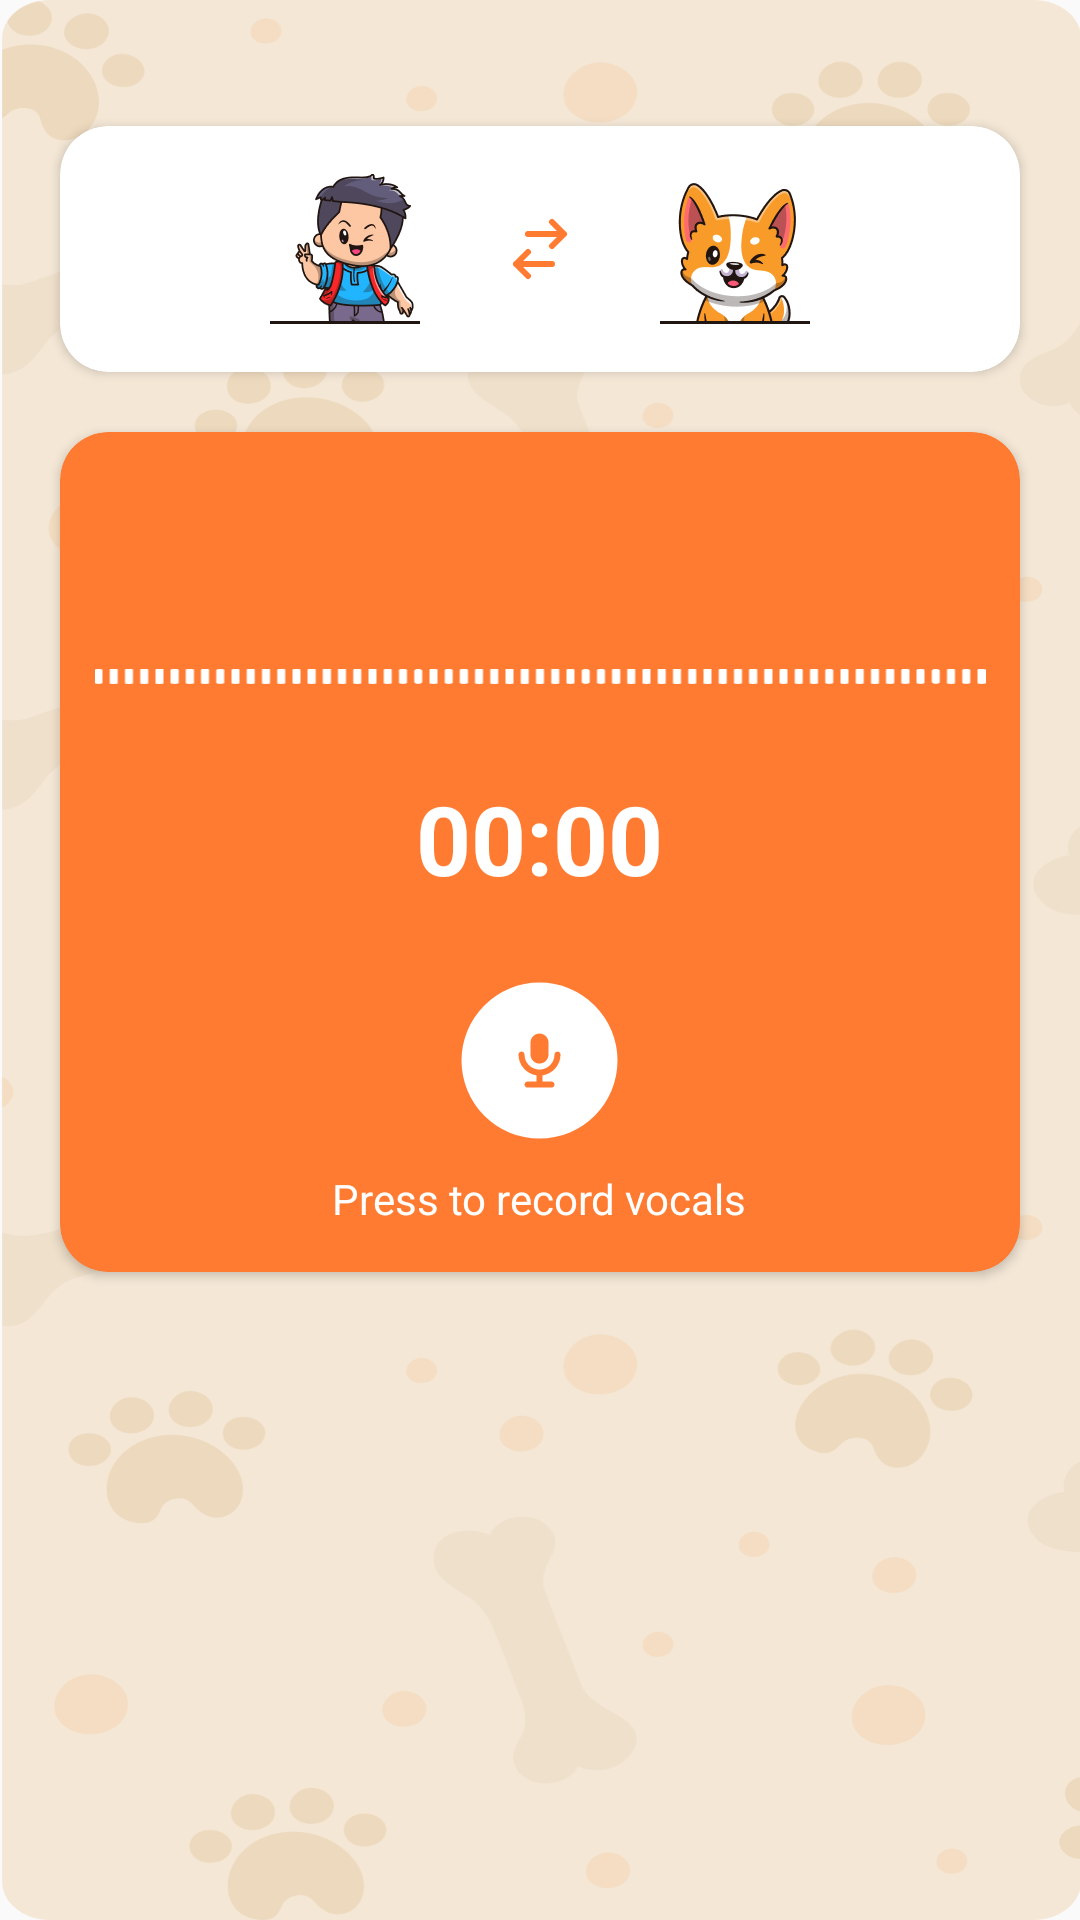

Icon bounding boxes for this 1080 x 1920 phone screenshot, format (x1, y1, x2, y2):
dog: (660, 183, 810, 324)
human: (270, 174, 420, 324)
switch: (513, 219, 567, 279)
